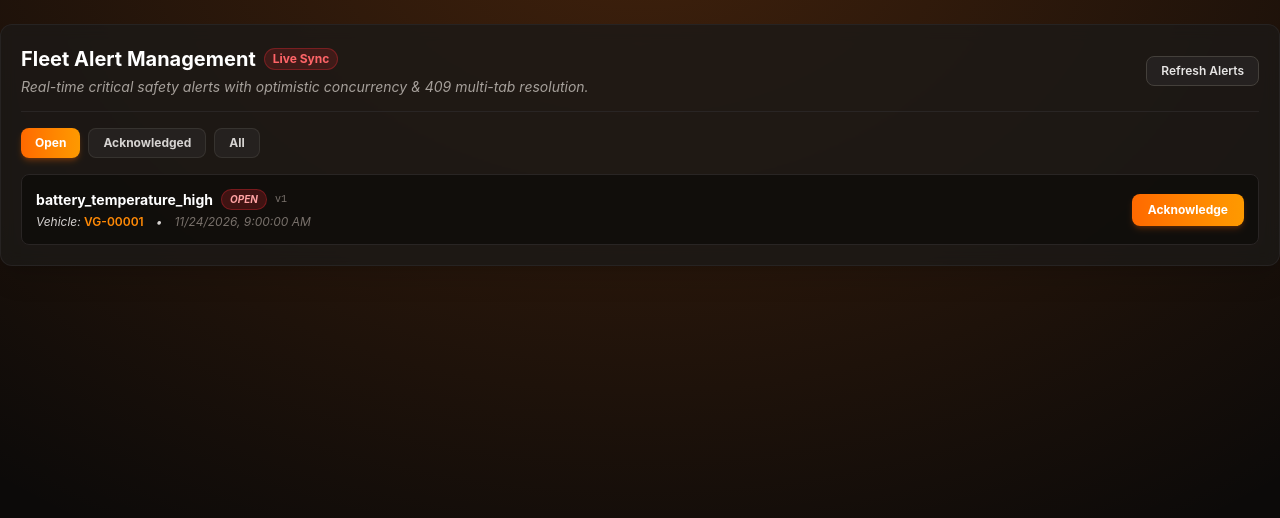
it: AlertsPanel - optimistic update, rollback, and 409 handling › handles HTTP 409 conflict when another operator acknowledges the alert first
The image size is (1280, 518).
Check: the heading "battery_temperature_high" is shown, box 36,190 -> 213,210
Click the button "Acknowledge" at (1188, 210), box 1132,194 -> 1244,226
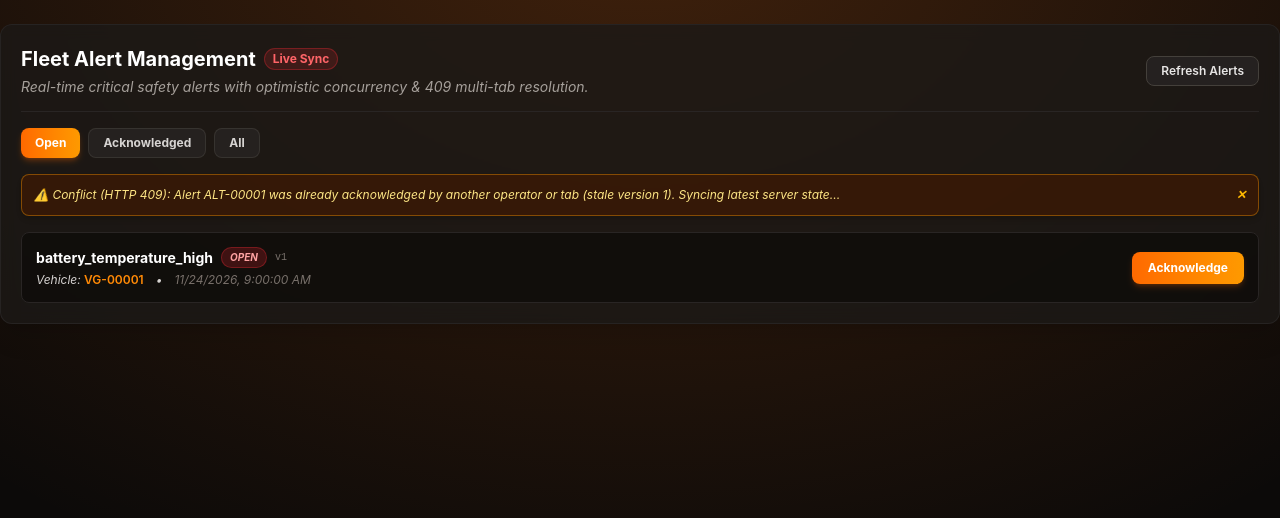
Check: the text "Conflict (HTTP 409)" is shown, box 52,187 -> 840,202
